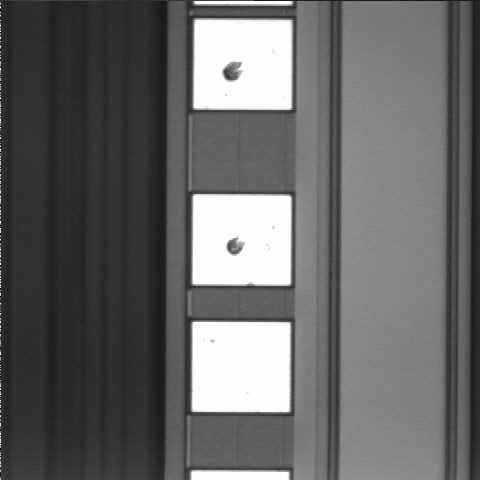pad: (193, 194, 291, 285), (194, 20, 292, 110), (192, 322, 290, 412)
